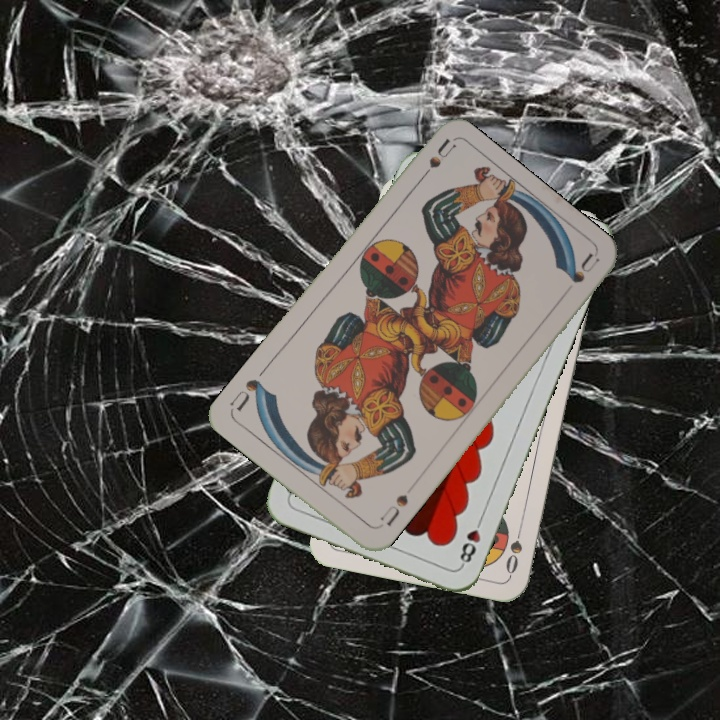H8: (455, 512, 486, 569)
SO: (501, 519, 526, 577)
SU: (412, 136, 457, 188), (374, 490, 411, 531)
